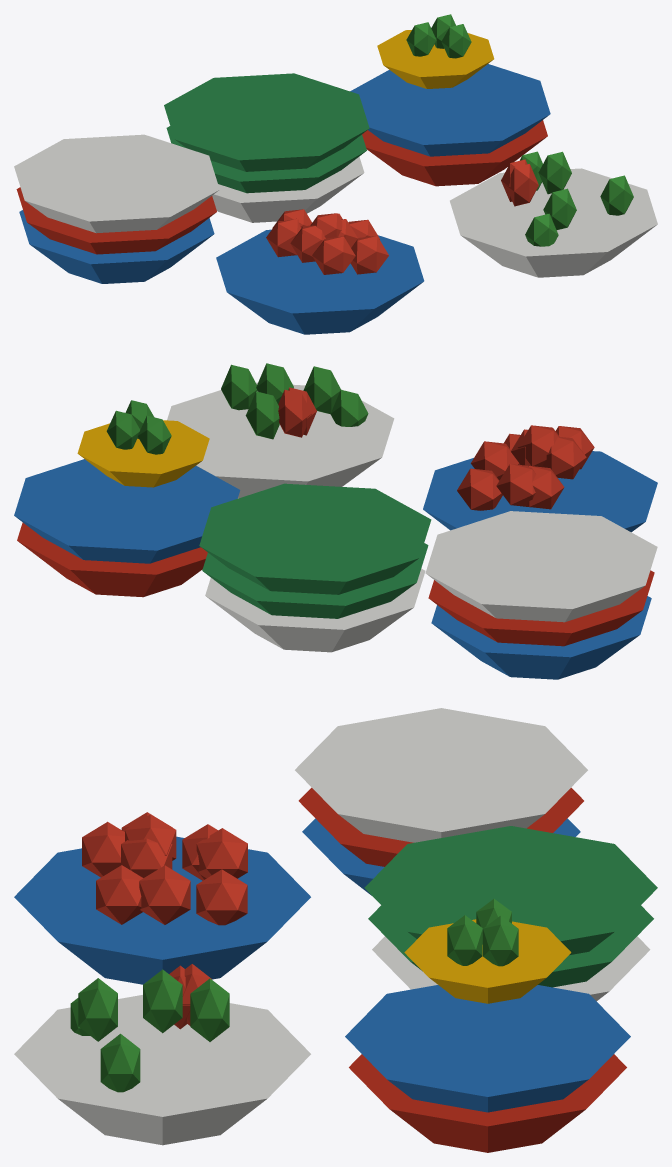
The model's file is prop_basins.ee2482295efd.glb.
3 renders of one model, top to bottom at view 1: azimuth 30°, elevation 25°; view 2: azimuth 150°, elevation 25°; view 3: azimuth 270°, elevation 25°, orthographic. The views are drawn at different scales.
Parts seen in each view (by area): view 1: body; view 2: body; view 3: body.
Part boxes in pixels (x1=…): body: x1=14, y1=14, x2=657, y2=334; body: x1=14, y1=363, x2=657, y2=679; body: x1=14, y1=708, x2=657, y2=1152.
Bounding box in the file's own units: 1.82 × 0.4736 × 1.39.
